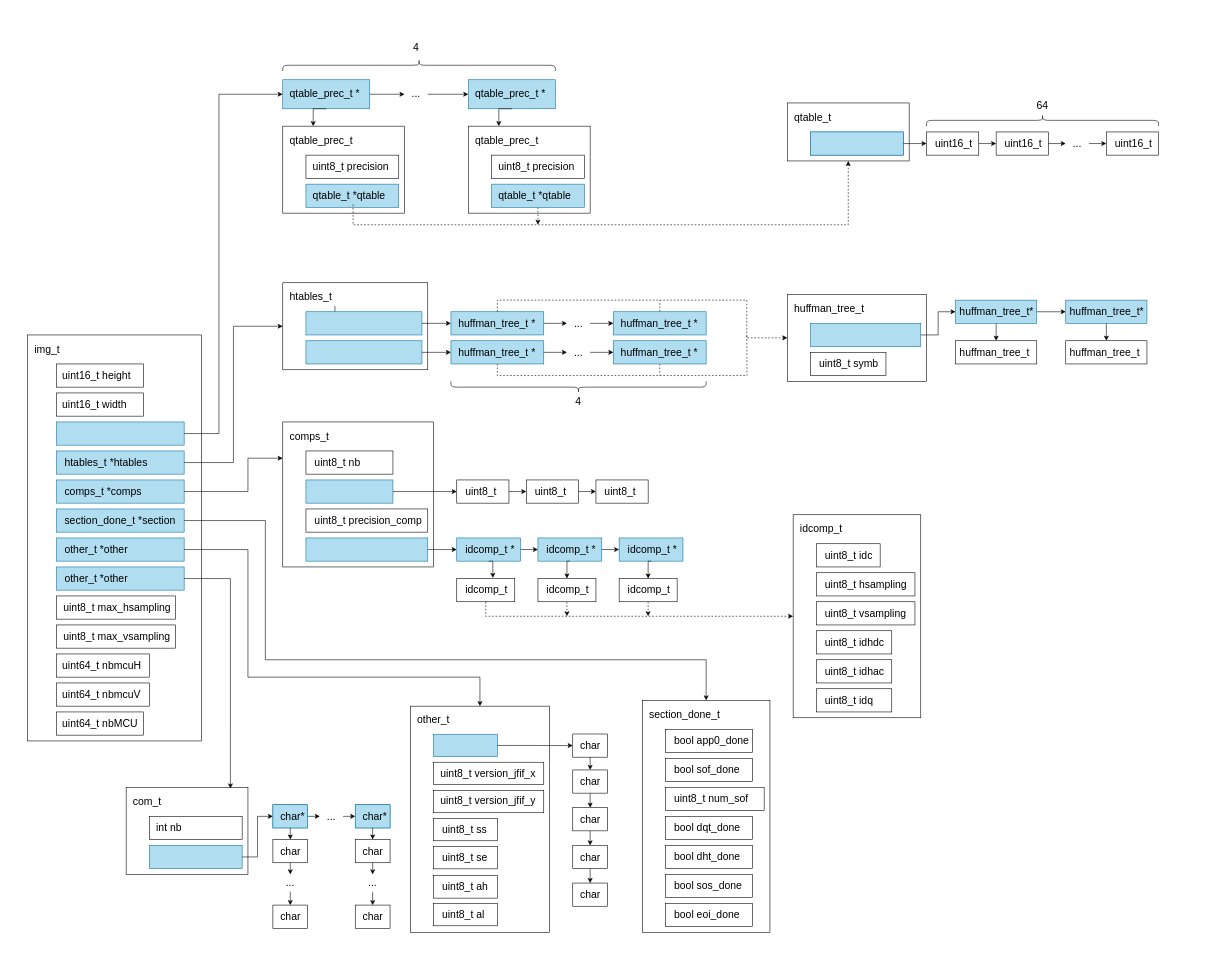
Some shapes in this 1209 by 971 pixel diagram are drawn without their labels. The centre of each missing label's shape, as x and y in pixels:
"char **com" goes at (195,857).
"char jfif[5]" goes at (465,745).
"huffman_tree_t *ac[4]" goes at (363,352).
"huffman_tree_t *dc[4]" goes at (363,323).
"huffman_tree_t *fils[2]" goes at (865,335).
"idcomp_t *comps[3]" goes at (366,549).
"qtable_prec_t *qtables[4]" goes at (120,433).
"uint16_t data[64]" goes at (856,143).
"uint8_t ordre[3]" goes at (349,491).
